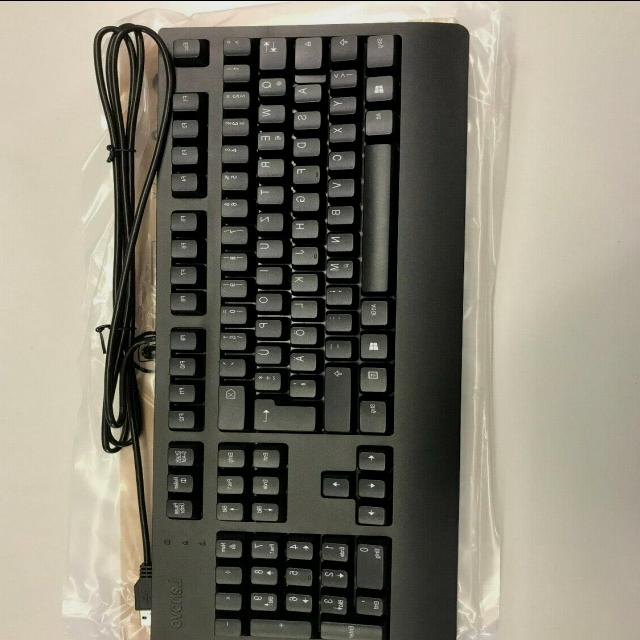0: (217, 302, 246, 322)
1: (219, 61, 248, 81)
2: (219, 88, 248, 108)
3: (219, 115, 247, 135)
4: (218, 142, 247, 162)
5: (219, 169, 247, 189)
6: (217, 196, 246, 216)
7: (219, 223, 247, 243)
8: (218, 249, 246, 269)
9: (217, 276, 245, 296)
a: (291, 81, 320, 100)
accent: (216, 356, 245, 375)
ae: (286, 349, 315, 369)
alt-left: (362, 106, 391, 134)
altgr-right: (357, 296, 386, 324)
b: (323, 202, 352, 222)
c: (325, 148, 354, 168)
caret: (220, 34, 248, 53)
comma: (323, 283, 351, 303)
d: (290, 135, 319, 155)
del: (214, 381, 244, 429)
e: (254, 128, 282, 148)
enter: (250, 396, 314, 430)
f: (290, 162, 319, 182)
g: (289, 190, 318, 210)
h: (289, 217, 317, 237)
hash: (286, 375, 314, 395)
i: (253, 263, 281, 283)
j: (289, 243, 317, 263)
k: (287, 270, 316, 290)
keyboard: (145, 22, 412, 640)
l: (287, 296, 316, 316)
less: (327, 66, 355, 86)
m: (323, 255, 352, 277)
minus: (322, 336, 350, 357)
n: (324, 230, 352, 250)
o: (253, 289, 281, 309)
oe: (286, 323, 316, 343)
p: (252, 316, 280, 336)
plus: (251, 369, 280, 389)
point: (323, 309, 351, 330)
q: (256, 74, 284, 94)
r: (254, 156, 282, 176)
s: (290, 108, 319, 128)
shift-left: (328, 31, 356, 59)
shift-lock: (292, 34, 321, 68)
shift-right: (321, 363, 349, 431)
space: (359, 140, 392, 292)
ss: (217, 329, 245, 349)
strg-left: (363, 30, 393, 66)
strg-right: (356, 396, 385, 432)
t: (254, 183, 282, 203)
tab: (257, 34, 285, 68)
u: (253, 236, 281, 256)
ue: (252, 342, 281, 362)
v: (324, 175, 352, 195)
w: (255, 102, 283, 121)
x: (326, 121, 354, 140)
y: (326, 93, 354, 112)
z: (253, 210, 282, 229)
